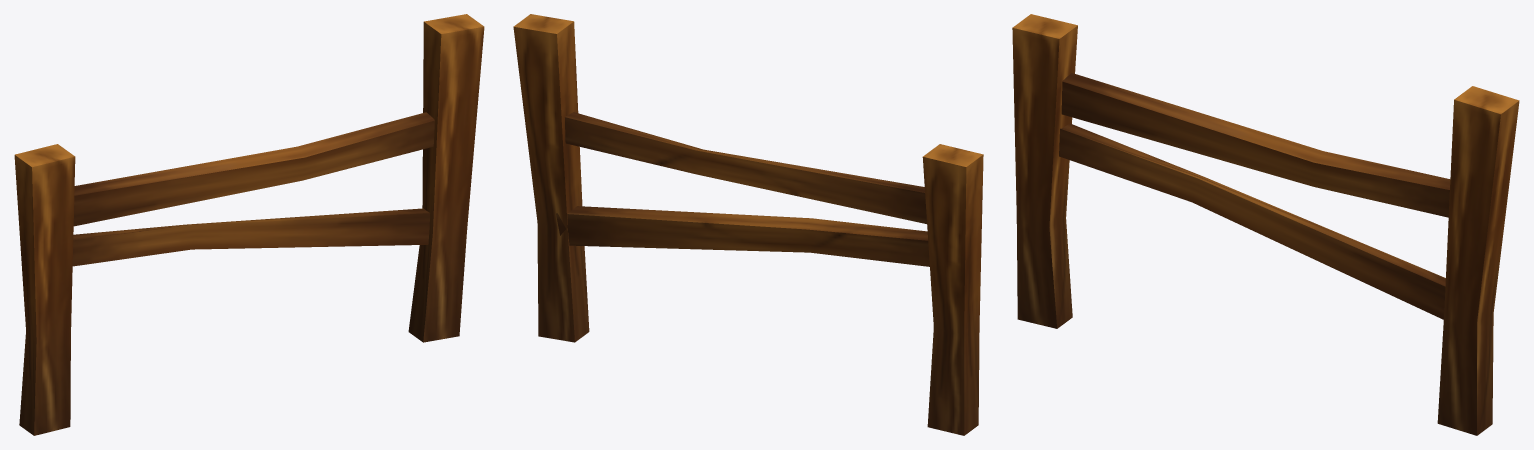
The model's file is fence_2.fbx.
3 views of the same model, side by side, from view 1: azimuth 30°, elevation 25°; view 2: azimuth 150°, elevation 25°; view 3: azimuth 330°, elevation 25° (orthographic). The views are drawn at different scales.
Parts seen in each view (by area): view 1: fence_2; view 2: fence_2; view 3: fence_2.
Part boxes in pixels (left/top/right/bottom): fence_2: left=14, top=14, right=484, bottom=435; fence_2: left=513, top=14, right=983, bottom=435; fence_2: left=1012, top=14, right=1519, bottom=435.
Size of the model in its own units: 1.96 by 1.27 by 0.1487.
